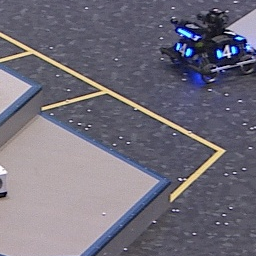Blue: (214, 44, 239, 61), (175, 41, 193, 58)
Robot: (159, 7, 256, 85)
